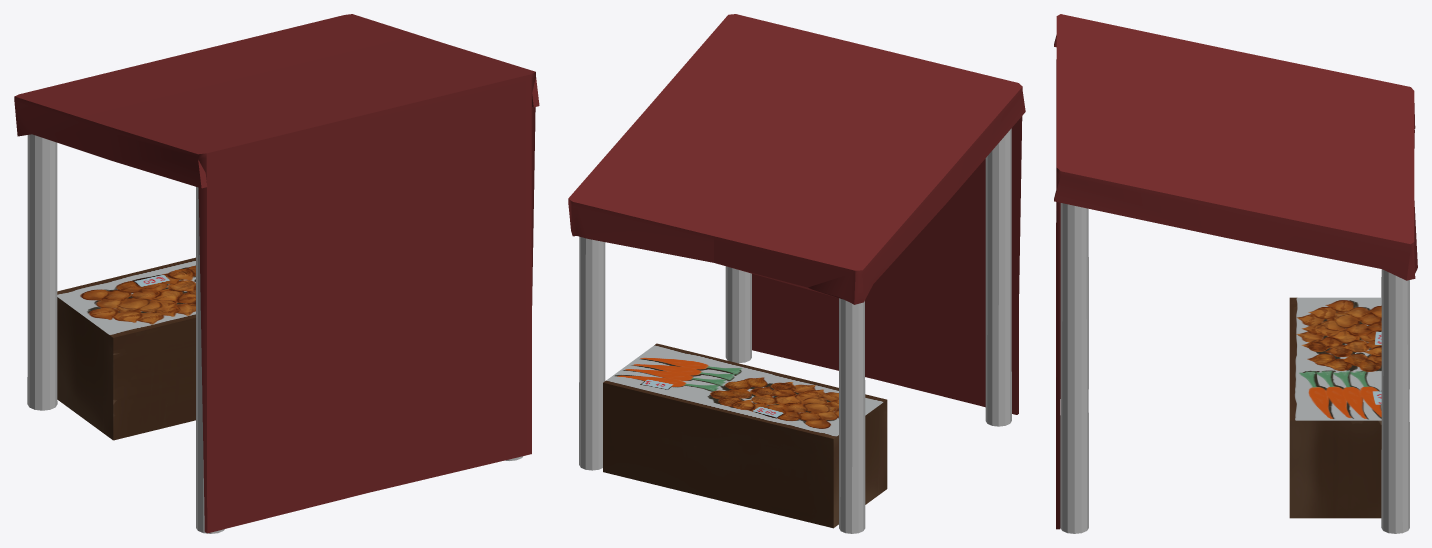
Rendered from tentoaka_yasai.fbx.
The picture shows the model from 3 angles, left to right: view 1: azimuth 30°, elevation 25°; view 2: azimuth 150°, elevation 25°; view 3: azimuth 270°, elevation 25°; orthographic projection. The views are drawn at different scales.
Visible parts, largest first — view 1: pPlane4, pPlane1, pCube1, pCylinder4, pCylinder1; view 2: pPlane4, pPlane1, pCube1, pCylinder1, pCylinder4, pCylinder3, pCylinder2; view 3: pPlane4, pPlane1, pCube1, pCylinder2, pCylinder3.
Boxes of the visible parts, <box> form: pPlane4: <box>14,14,539,526</box>; pPlane1: <box>14,55,368,533</box>; pCube1: <box>57,257,195,440</box>; pCylinder4: <box>27,134,57,410</box>; pCylinder1: <box>196,187,224,533</box>; pPlane4: <box>568,14,1025,408</box>; pPlane1: <box>715,48,1022,414</box>; pCube1: <box>603,343,887,528</box>; pCylinder1: <box>985,128,1011,426</box>; pCylinder4: <box>839,298,865,533</box>; pCylinder3: <box>579,236,605,470</box>; pCylinder2: <box>725,266,751,363</box>; pPlane4: <box>1054,35,1417,529</box>; pPlane1: <box>1054,14,1415,343</box>; pCube1: <box>1289,297,1381,518</box>; pCylinder2: <box>1060,203,1088,533</box>; pCylinder3: <box>1381,269,1409,533</box>.
Size of the model in its own units: 1.04 by 1.13 by 1.02.
